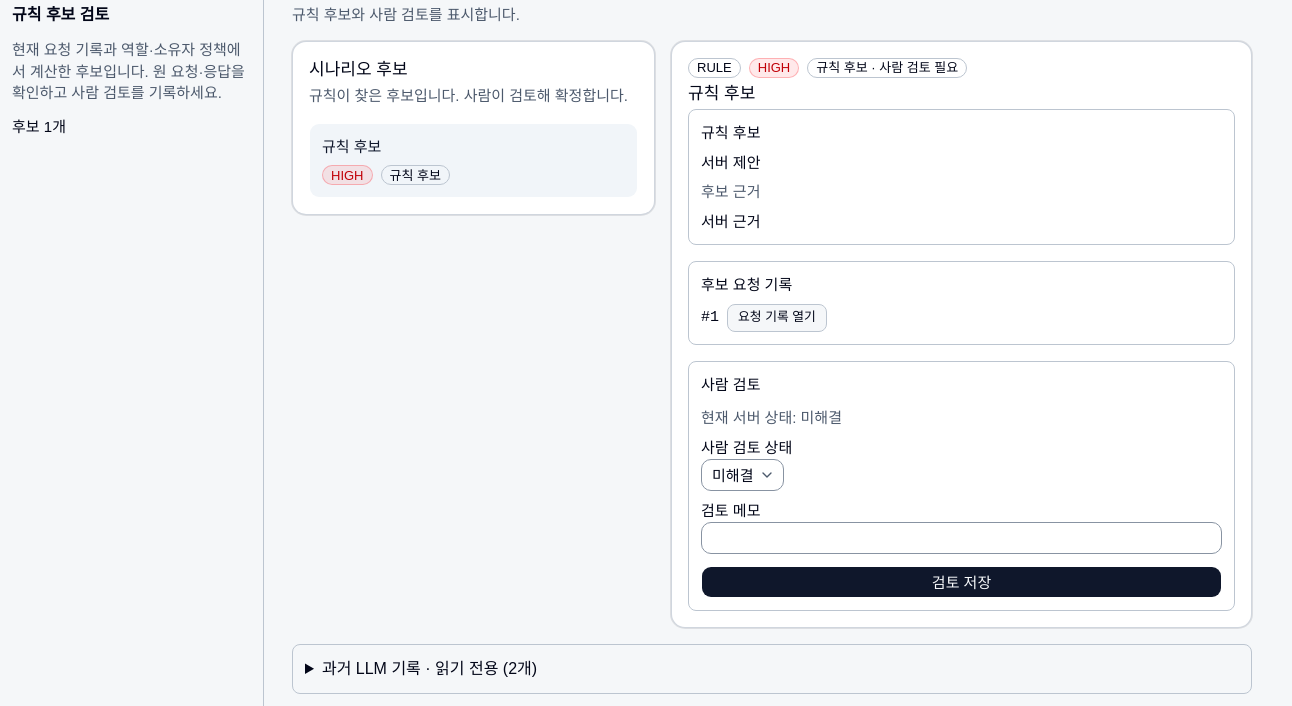
keeps restored LLM verdicts in a read-only archive, never in the current candidate list
The width and height of the screenshot is (1292, 706).
(page scrolled)
Click the heading "과거 LLM 기록 · 읽기 전용 (2개)" at (430, 669), box [322,660,537,677]
(page scrolled)
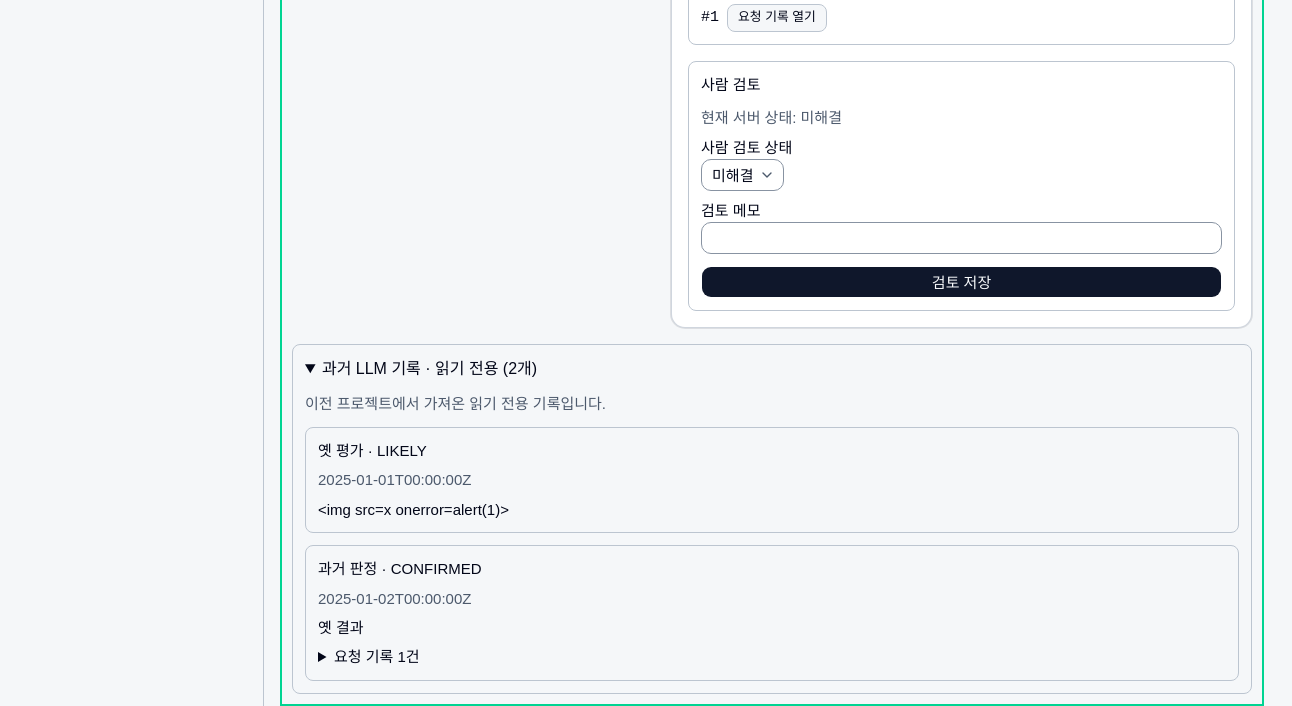
Now the text "이전 프로젝트에서 가져온 읽기 전용 기록입니다." is shown, box [305,395,606,412]
